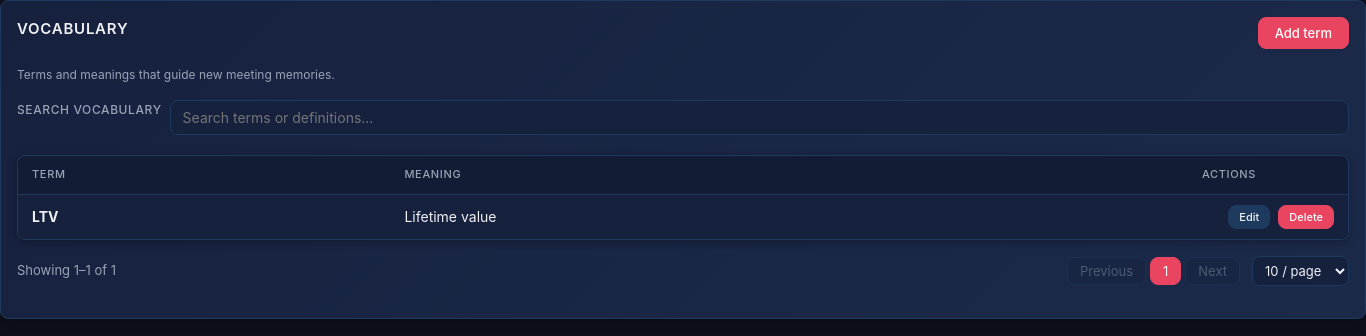
Test case: MeetingVocabulary › requires confirmation to delete and preserves the current revision
This screenshot has width=1366, height=336.
Click the button with aria-label "Delete LTV".
click(1306, 217)  # box left=1278, top=205, right=1334, bottom=229
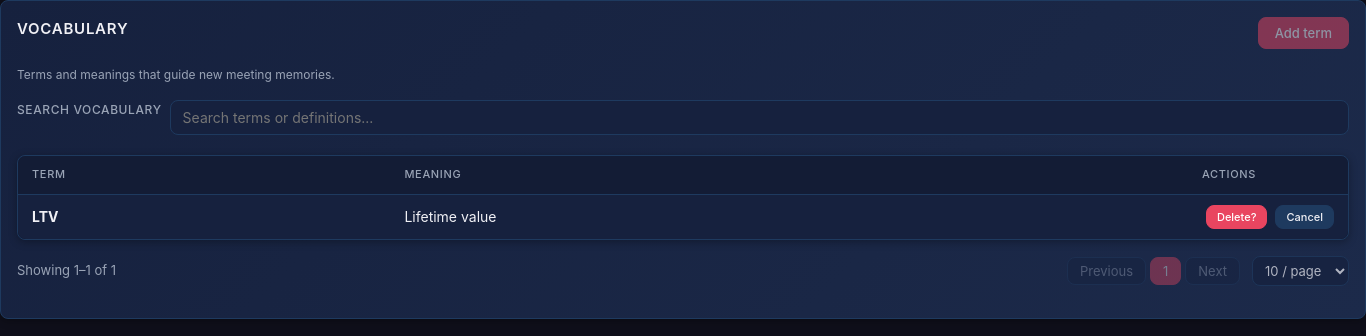
Click the button with aria-label "Cancel delete".
click(1305, 217)  # box left=1276, top=205, right=1334, bottom=229
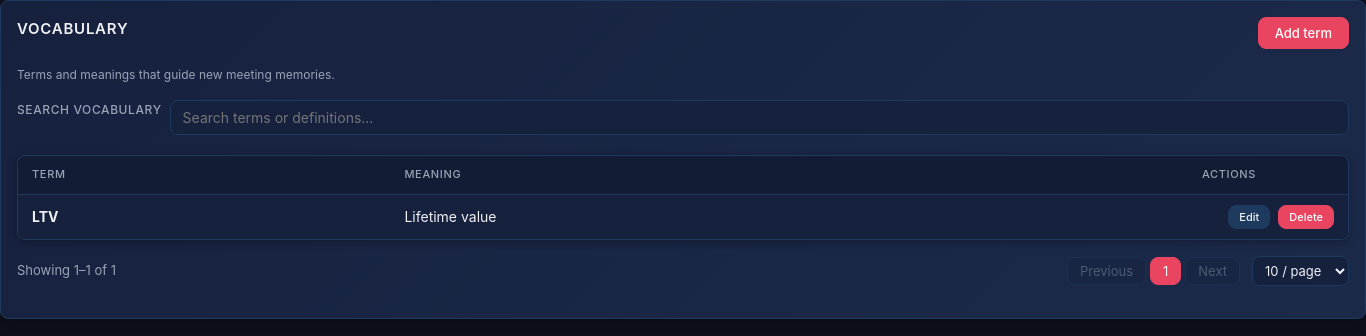
Click the button with aria-label "Delete LTV".
click(1306, 217)  # box left=1278, top=205, right=1334, bottom=229
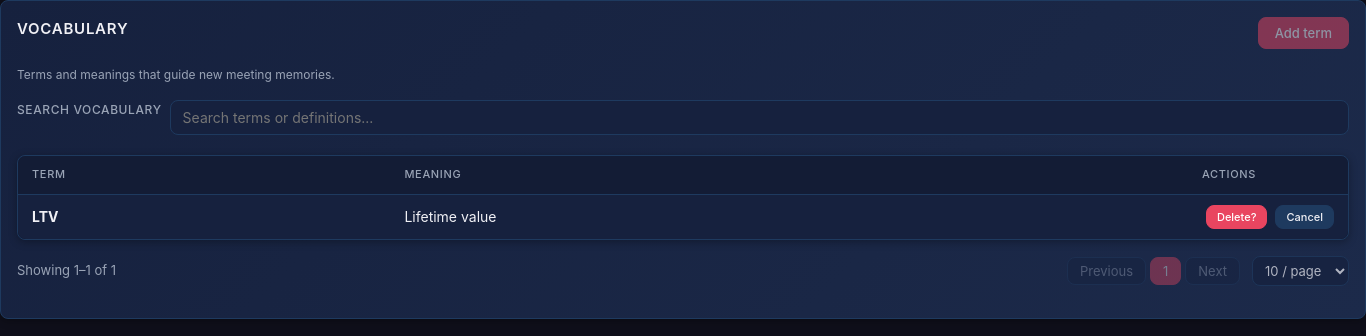
Click the button with aria-label "Confirm delete".
click(1237, 217)  # box left=1206, top=205, right=1268, bottom=229
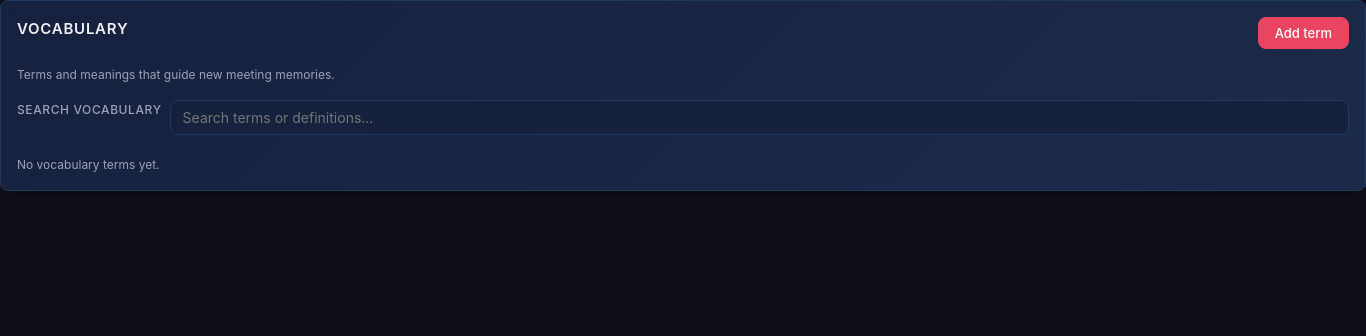
Now the text "No vocabulary terms yet." is shown, box left=17, top=157, right=160, bottom=172
